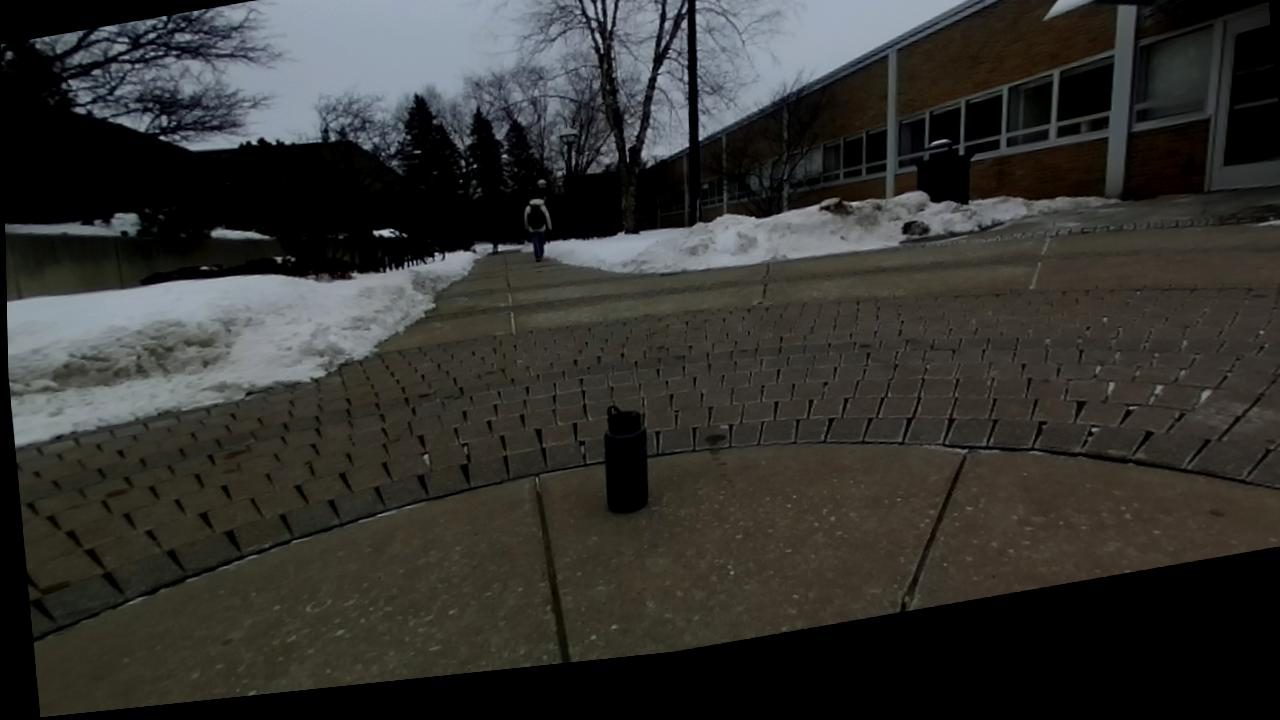bottle: (602, 405, 648, 510)
